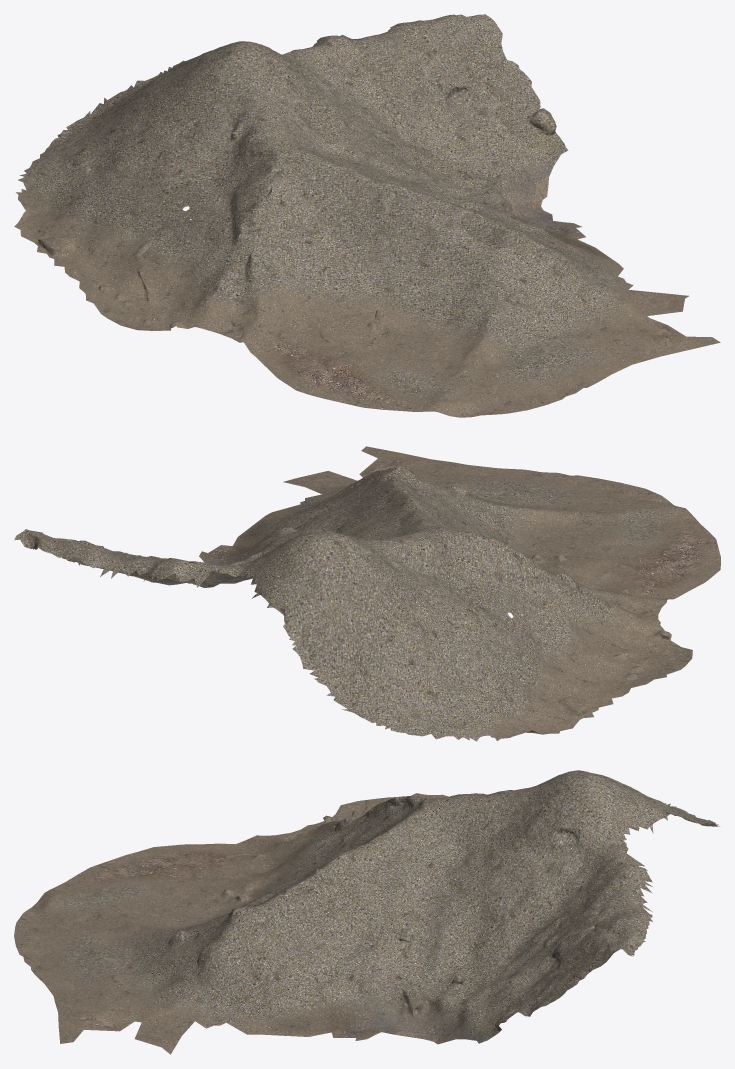
The model's file is MOD_jTraption_mainGroundLeft.fbx.
The picture shows the model from 3 angles, top to bottom: view 1: azimuth 30°, elevation 25°; view 2: azimuth 150°, elevation 25°; view 3: azimuth 270°, elevation 25°; orthographic projection. The views are drawn at different scales.
Visible parts, largest first — view 1: MOD_jTraption_mainGroundLeft; view 2: MOD_jTraption_mainGroundLeft; view 3: MOD_jTraption_mainGroundLeft.
Part boxes in pixels (<box>): MOD_jTraption_mainGroundLeft: <box>14,14,720,417</box>; MOD_jTraption_mainGroundLeft: <box>14,446,720,741</box>; MOD_jTraption_mainGroundLeft: <box>14,770,719,1054</box>.
Size of the model in its own units: 825 by 247 by 974.
